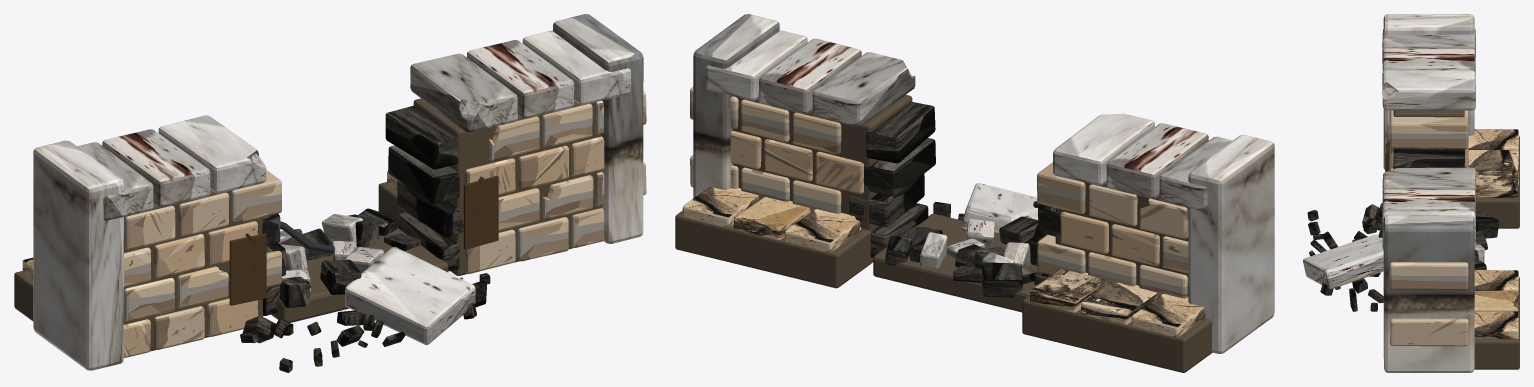
File: parapet_destroyed_gap_LOD0.glb
The picture shows the model from 3 angles, left to right: view 1: azimuth 30°, elevation 25°; view 2: azimuth 150°, elevation 25°; view 3: azimuth 270°, elevation 25°; orthographic projection. The views are drawn at different scales.
Parts seen in each view (by area): view 1: SurvivingTerminalPier, SurvivingTerminalPier.001, FallenCopingSlab, SurvivingCoping.003, SurvivingCoping.004, SurvivingCoping.001, RuinWallCore.001, SurvivingCoping.002, SurvivingCoping.005, ExposedRaggedBond.007, RubbleBedCore, SurvivingCoping (+38 smaller); view 2: SurvivingTerminalPier, SurvivingStepCore.001, SurvivingStepCore, SurvivingTerminalPier.001, SurvivingCoping.003, RubbleBedCore, SurvivingCoping.004, SurvivingCoping.001, SurvivingCoping.002, RuinWallCore.001, SurvivingCoping.005, ExposedRaggedBond.007 (+35 smaller); view 3: SurvivingTerminalPier.001, SurvivingCoping.002, FallenCopingSlab, SurvivingCombatAshlar.011, SurvivingTerminalPier, SurvivingCombatAshlar.017, SurvivingCombatAshlar.023, SurvivingCoping.004, SurvivingCoping.001, SurvivingCoping.003, SurvivingStepCore.001, SurvivingCoping (+13 smaller).
Part boxes in pixels (x1,y1,x2,y2): SurvivingTerminalPier: (33, 140, 123, 370); SurvivingTerminalPier.001: (553, 14, 643, 243); FallenCopingSlab: (345, 247, 475, 344); SurvivingCoping.003: (410, 53, 517, 132); SurvivingCoping.004: (467, 40, 574, 118); SurvivingCoping.001: (102, 129, 210, 207); RuinWallCore.001: (413, 98, 601, 275); SurvivingCoping.002: (158, 115, 266, 193); SurvivingCoping.005: (522, 30, 630, 104); ExposedRaggedBond.007: (385, 105, 457, 169); RubbleBedCore: (271, 227, 448, 323); SurvivingCoping: (77, 142, 153, 220); SurvivingTerminalPier: (1188, 134, 1274, 353); SurvivingStepCore.001: (675, 210, 871, 288); SurvivingStepCore: (1022, 295, 1212, 372); SurvivingTerminalPier.001: (693, 14, 779, 198); SurvivingCoping.003: (812, 52, 915, 126); RubbleBedCore: (873, 213, 1037, 312); SurvivingCoping.004: (758, 38, 861, 113); SurvivingCoping.001: (1106, 123, 1208, 198); SurvivingCoping.002: (1053, 113, 1154, 185); RuinWallCore.001: (732, 95, 912, 263); SurvivingCoping.005: (706, 30, 807, 100); ExposedRaggedBond.007: (866, 102, 935, 163); SurvivingTerminalPier.001: (1383, 215, 1474, 372); SurvivingCoping.002: (1382, 70, 1475, 110); FallenCopingSlab: (1303, 234, 1383, 289); SurvivingCombatAshlar.011: (1389, 110, 1468, 149); SurvivingTerminalPier: (1383, 14, 1474, 170); SurvivingCombatAshlar.017: (1390, 318, 1468, 346); SurvivingCombatAshlar.023: (1389, 262, 1468, 290); SurvivingCoping.004: (1382, 189, 1475, 226); SurvivingCoping.001: (1382, 48, 1475, 75); SurvivingCoping.003: (1382, 167, 1475, 196); SurvivingStepCore.001: (1474, 277, 1519, 369); SurvivingCoping: (1382, 28, 1476, 63).
Bounding box in the file's own units: 4.21 × 1.38 × 1.77.
Materials: 8 (4 with a texture image).
